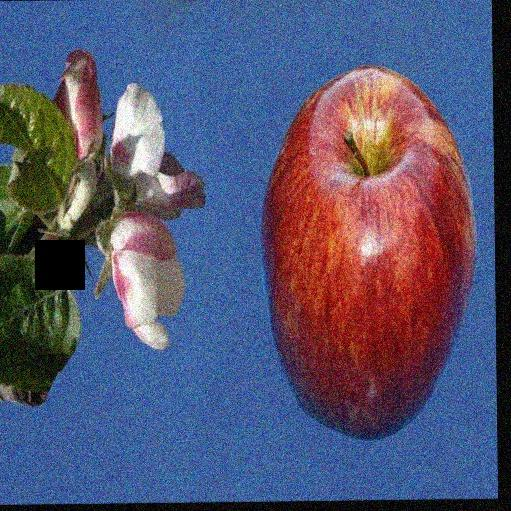red apple: (262, 62, 478, 439)
